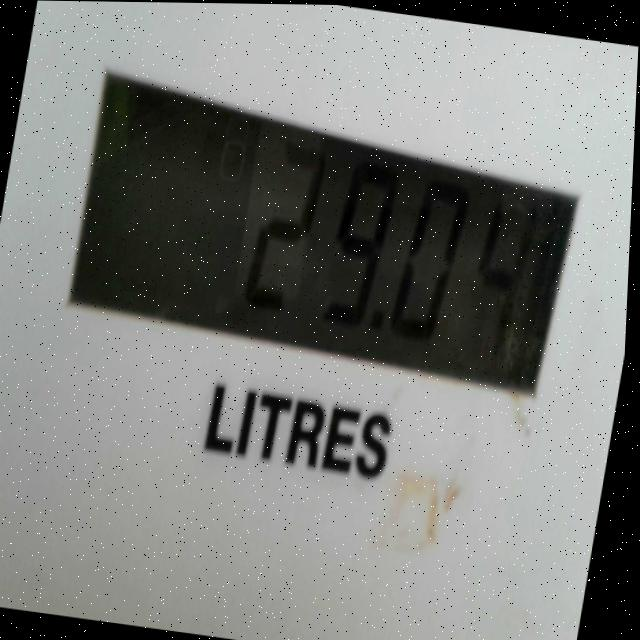.: (375, 315, 386, 337)
0: (390, 176, 467, 341)
2: (252, 143, 329, 305)
4: (462, 185, 542, 371)
9: (327, 160, 400, 327)
